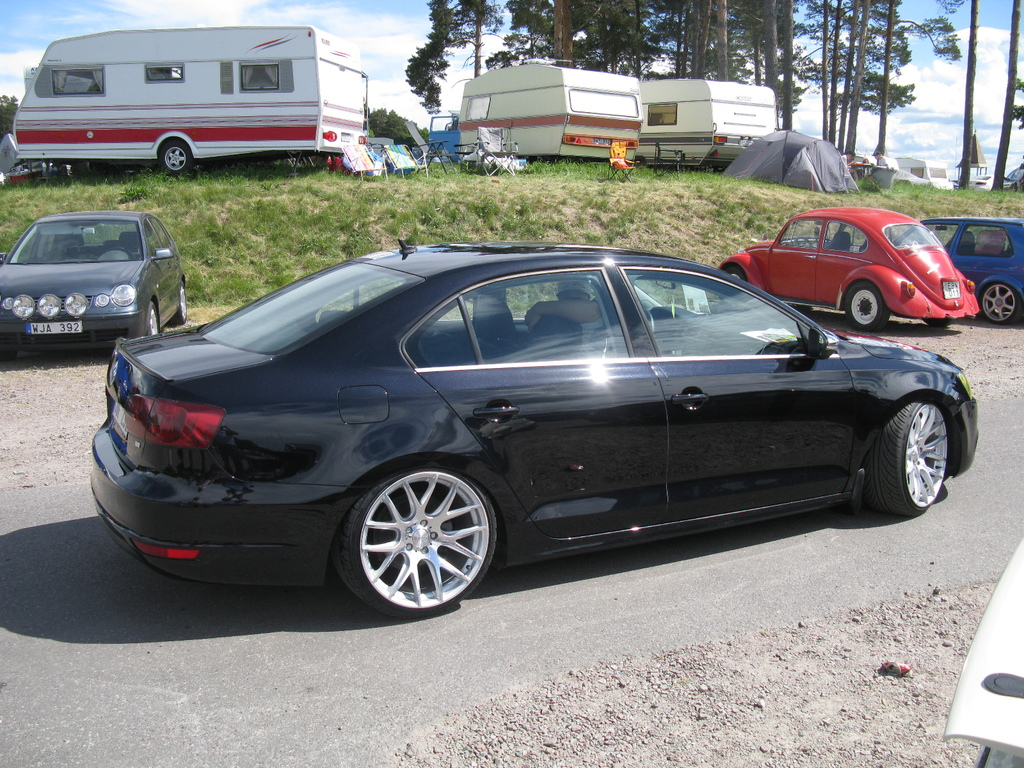Car: (90, 230, 959, 604), (714, 206, 981, 325), (0, 210, 190, 361), (945, 533, 1023, 767), (921, 216, 1023, 324)
